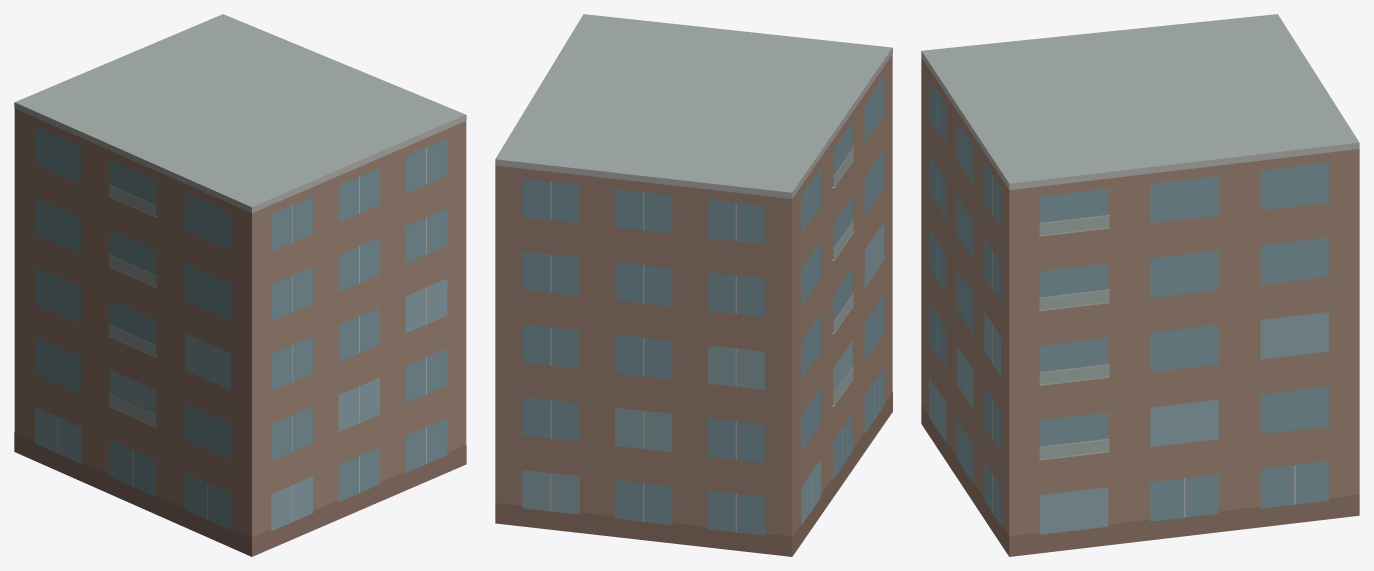
The model's file is survey-upis-32603628.glb.
3 renders of one model, left to right at view 1: azimuth 30°, elevation 25°; view 2: azimuth 150°, elevation 25°; view 3: azimuth 270°, elevation 25°, orthographic. The views are drawn at different scales.
Visible parts, largest first — view 1: survey-upis-32603628.tmp; view 2: survey-upis-32603628.tmp; view 3: survey-upis-32603628.tmp.
Boxes of the visible parts, x1,y1,x2,y2 form: survey-upis-32603628.tmp: [14, 14, 466, 556]; survey-upis-32603628.tmp: [495, 14, 892, 556]; survey-upis-32603628.tmp: [921, 14, 1359, 556].
Bounding box in the file's own units: 13.97 × 14.3 × 15.23.
